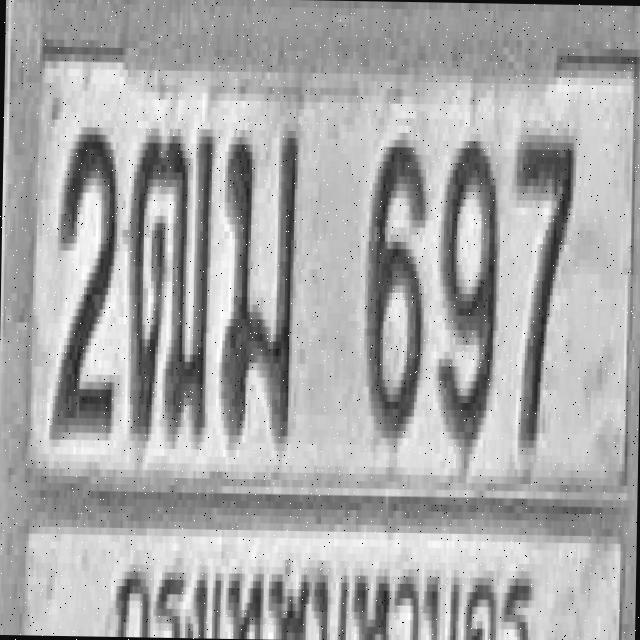2: (52, 119, 118, 433)
27ThorPhuThao: (125, 124, 213, 438)
42MorMa: (220, 126, 298, 440)
6: (365, 132, 426, 438)
7: (510, 127, 576, 448)
9: (438, 134, 498, 446)
